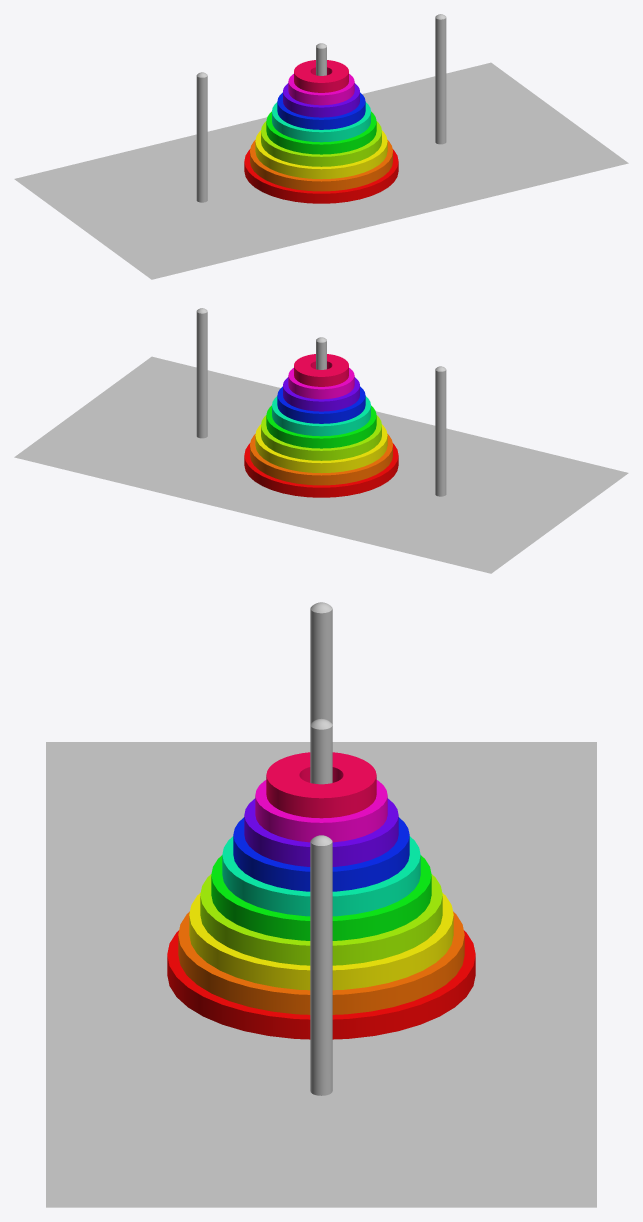
File: toh11.fbx
3 views of the same model, one above another, from view 1: azimuth 30°, elevation 25°; view 2: azimuth 150°, elevation 25°; view 3: azimuth 270°, elevation 25° (orthographic). The views are drawn at different scales.
Visible parts, largest first — view 1: Plane, 140r, 130r, 120r, 110r, 100r, Cylinder.1, Cylinder.2, 90r, 50r, 80r, 70r (+1 smaller); view 2: Plane, 140r, 130r, 120r, 110r, 100r, Cylinder.1, Cylinder.2, 90r, 50r, 80r, 70r (+1 smaller); view 3: Plane, 140r, 130r, 120r, 110r, 100r, Cylinder.2, 50r, 90r, 80r, 70r, 60r (+2 smaller).
Part boxes in pixels (<box>): Plane: <box>14,62,628,279</box>; 140r: <box>244,149,398,203</box>; 130r: <box>250,140,392,191</box>; 120r: <box>255,130,387,179</box>; 110r: <box>261,121,381,166</box>; 100r: <box>266,111,376,154</box>; Cylinder.1: <box>196,76,207,202</box>; Cylinder.2: <box>435,18,446,144</box>; 90r: <box>272,102,370,142</box>; 50r: <box>294,60,348,92</box>; 80r: <box>277,92,365,129</box>; 70r: <box>283,83,359,117</box>; Plane: <box>14,356,628,573</box>; 140r: <box>244,443,398,497</box>; 130r: <box>250,434,392,485</box>; 120r: <box>255,424,387,473</box>; 110r: <box>261,415,381,460</box>; 100r: <box>266,405,376,448</box>; Cylinder.1: <box>435,370,446,496</box>; Cylinder.2: <box>196,312,207,438</box>; 90r: <box>272,396,370,436</box>; 50r: <box>294,354,348,386</box>; 80r: <box>277,386,365,423</box>; 70r: <box>283,377,359,411</box>; Plane: <box>46,742,596,1207</box>; 140r: <box>167,930,475,1039</box>; 130r: <box>178,911,464,1014</box>; 120r: <box>189,893,453,990</box>; 110r: <box>200,874,442,965</box>; 100r: <box>211,855,431,940</box>; Cylinder.2: <box>310,842,332,1095</box>; 50r: <box>266,752,376,818</box>; 90r: <box>222,836,420,916</box>; 80r: <box>233,817,409,891</box>; 70r: <box>244,798,398,866</box>; 60r: <box>255,780,387,842</box>.
Bounding box in the file's own units: 1000 × 255 × 500.
